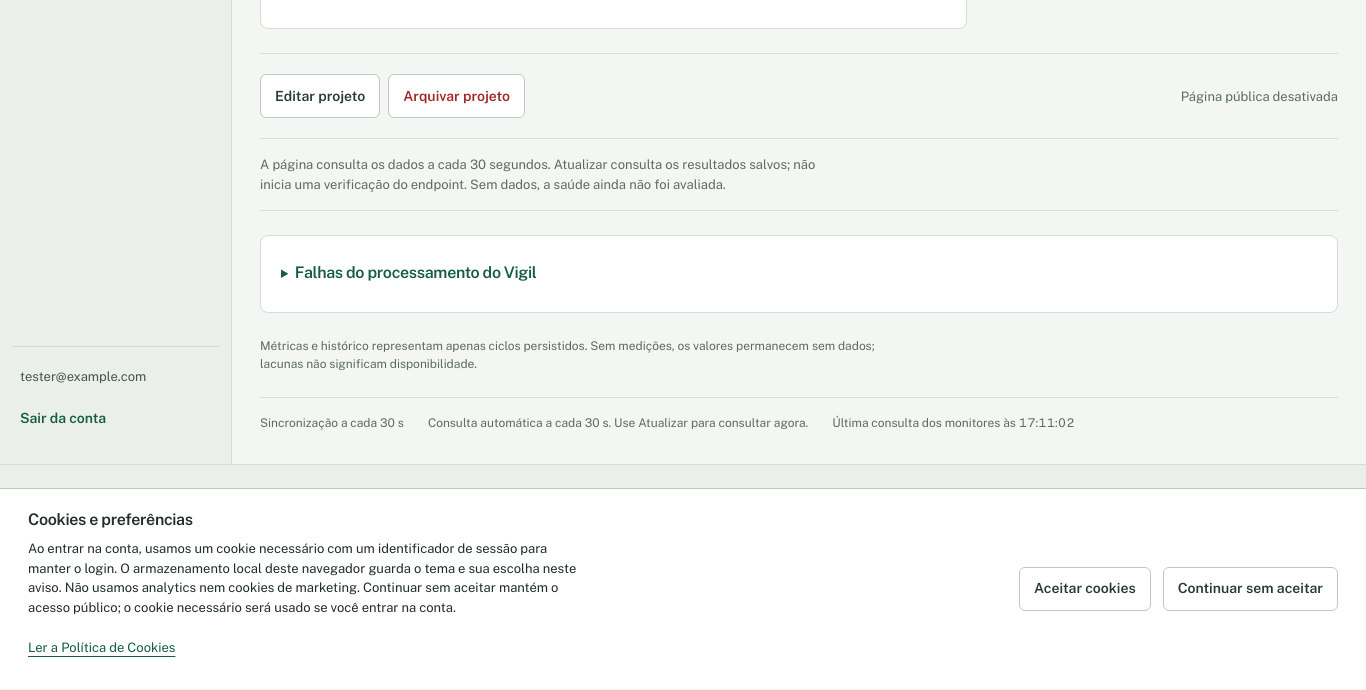
Test: fluxos reais da interface com transporte isolado no teste › arquiva projeto apenas após confirmar e seleciona o próximo projeto
(page scrolled)
Click the button "Arquivar projeto" at coordinates (457, 96), box [388,74,525,118]
(page scrolled)
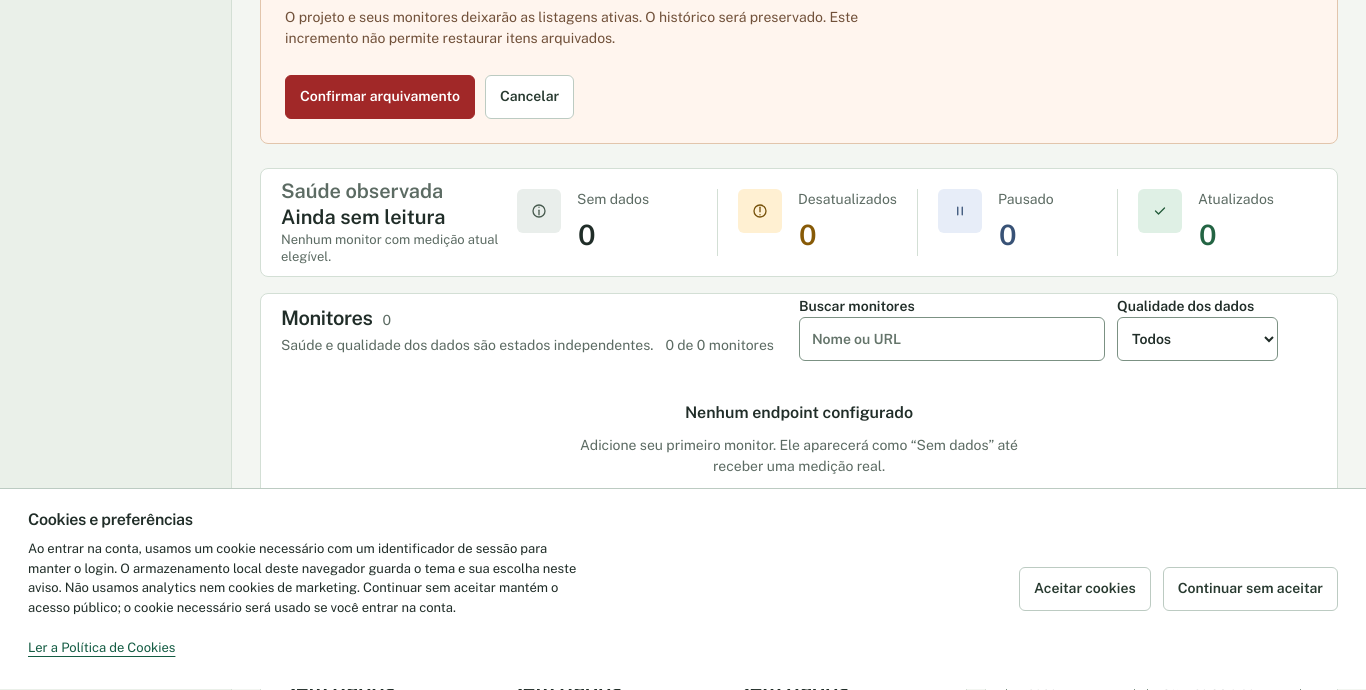
Click the button "Confirmar arquivamento" at coordinates (380, 97), box [285,75,475,119]
(page scrolled)
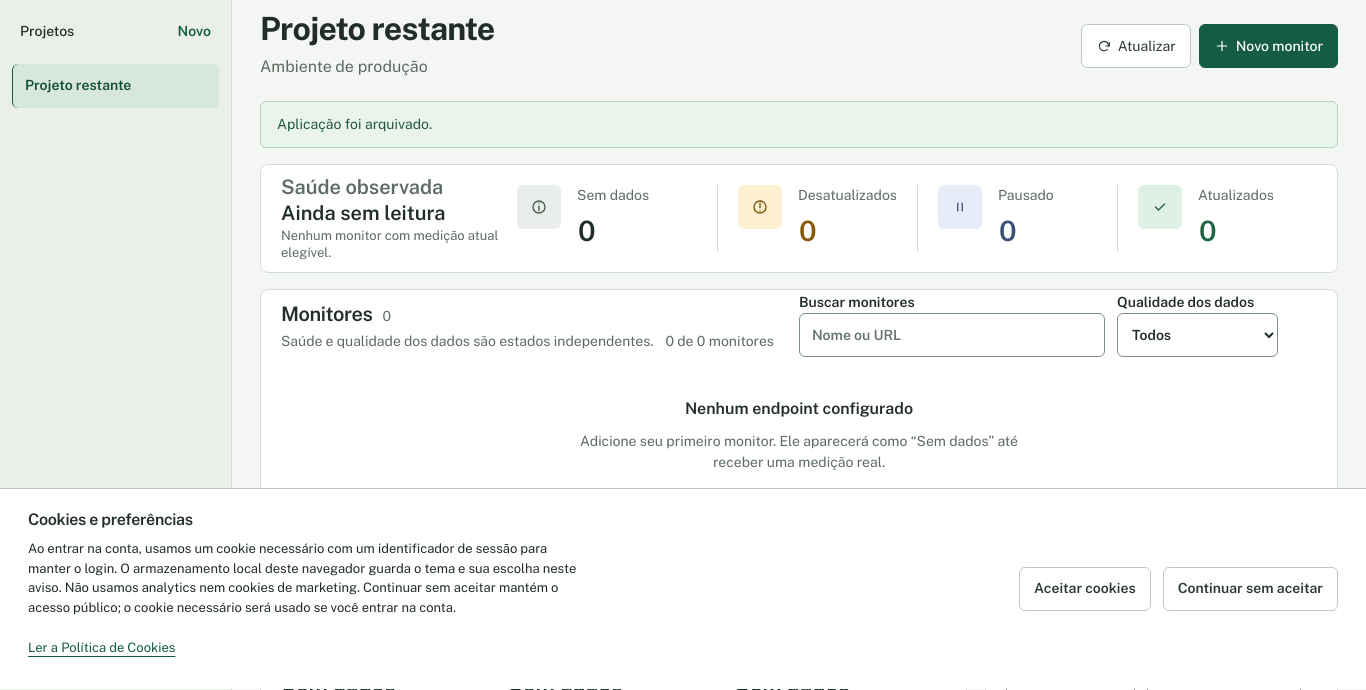
Check: the heading "Projeto restante" is shown, box [260,10,494,48]
